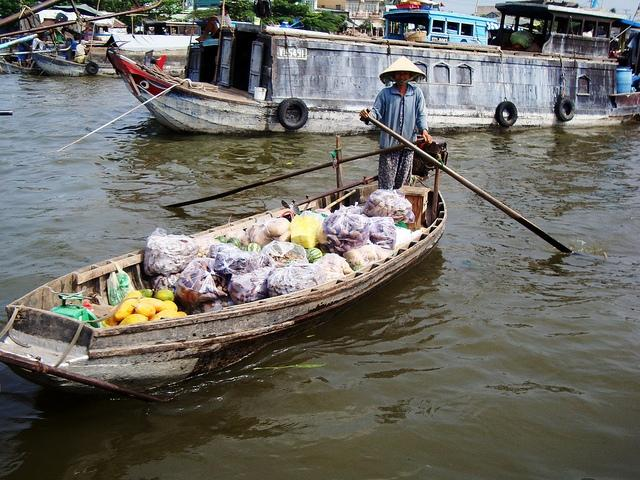watermelon: (308, 248, 322, 262), (244, 243, 262, 252), (227, 238, 241, 248), (216, 236, 227, 244), (353, 265, 362, 271), (240, 245, 248, 251)
